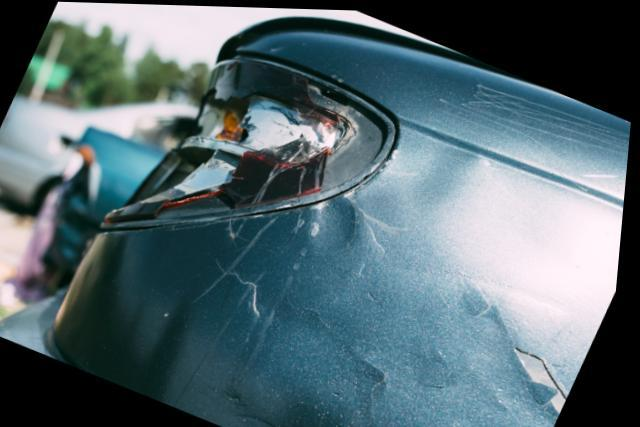lamp broken: (113, 66, 393, 220)
scratch: (438, 78, 632, 170)
